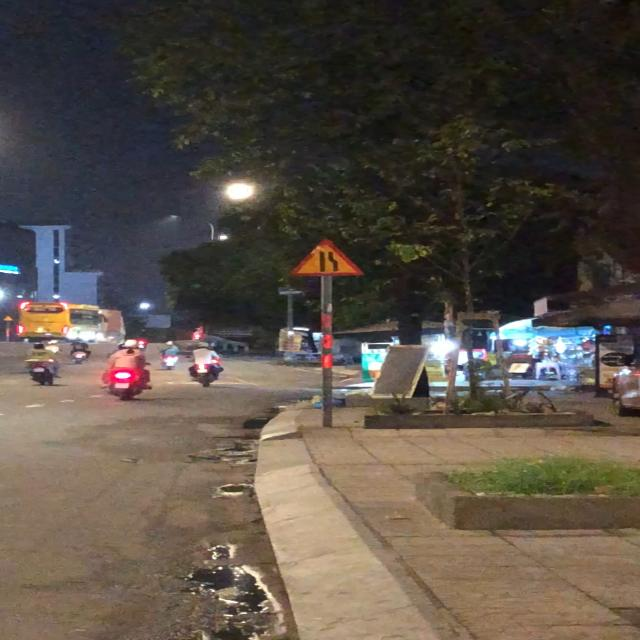Bien bao duong bi thu hep: (282, 237, 376, 280)
